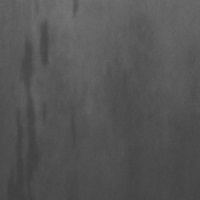inclusion: (9, 32, 40, 199), (35, 12, 56, 72), (66, 111, 80, 148)
